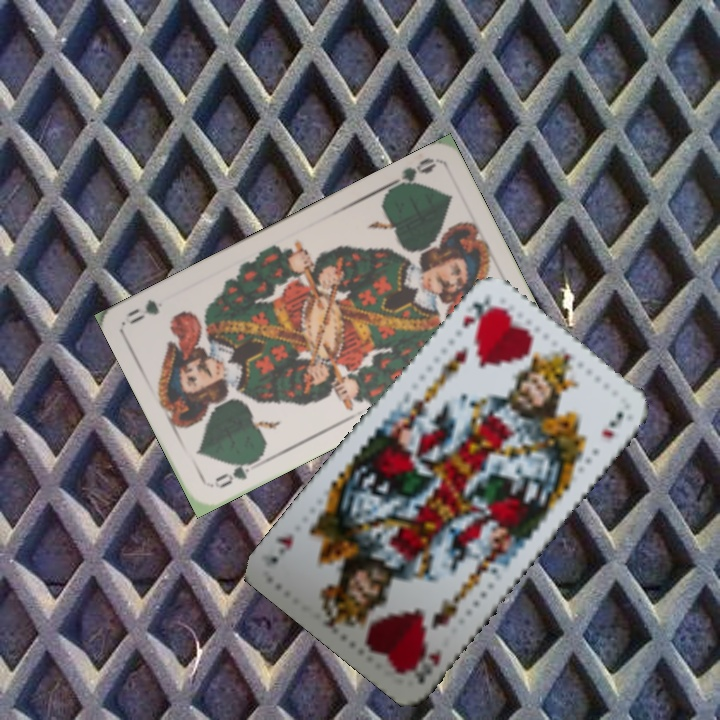GO: (381, 153, 438, 196), (208, 456, 262, 491)
HK: (403, 641, 445, 688), (458, 294, 495, 331)
